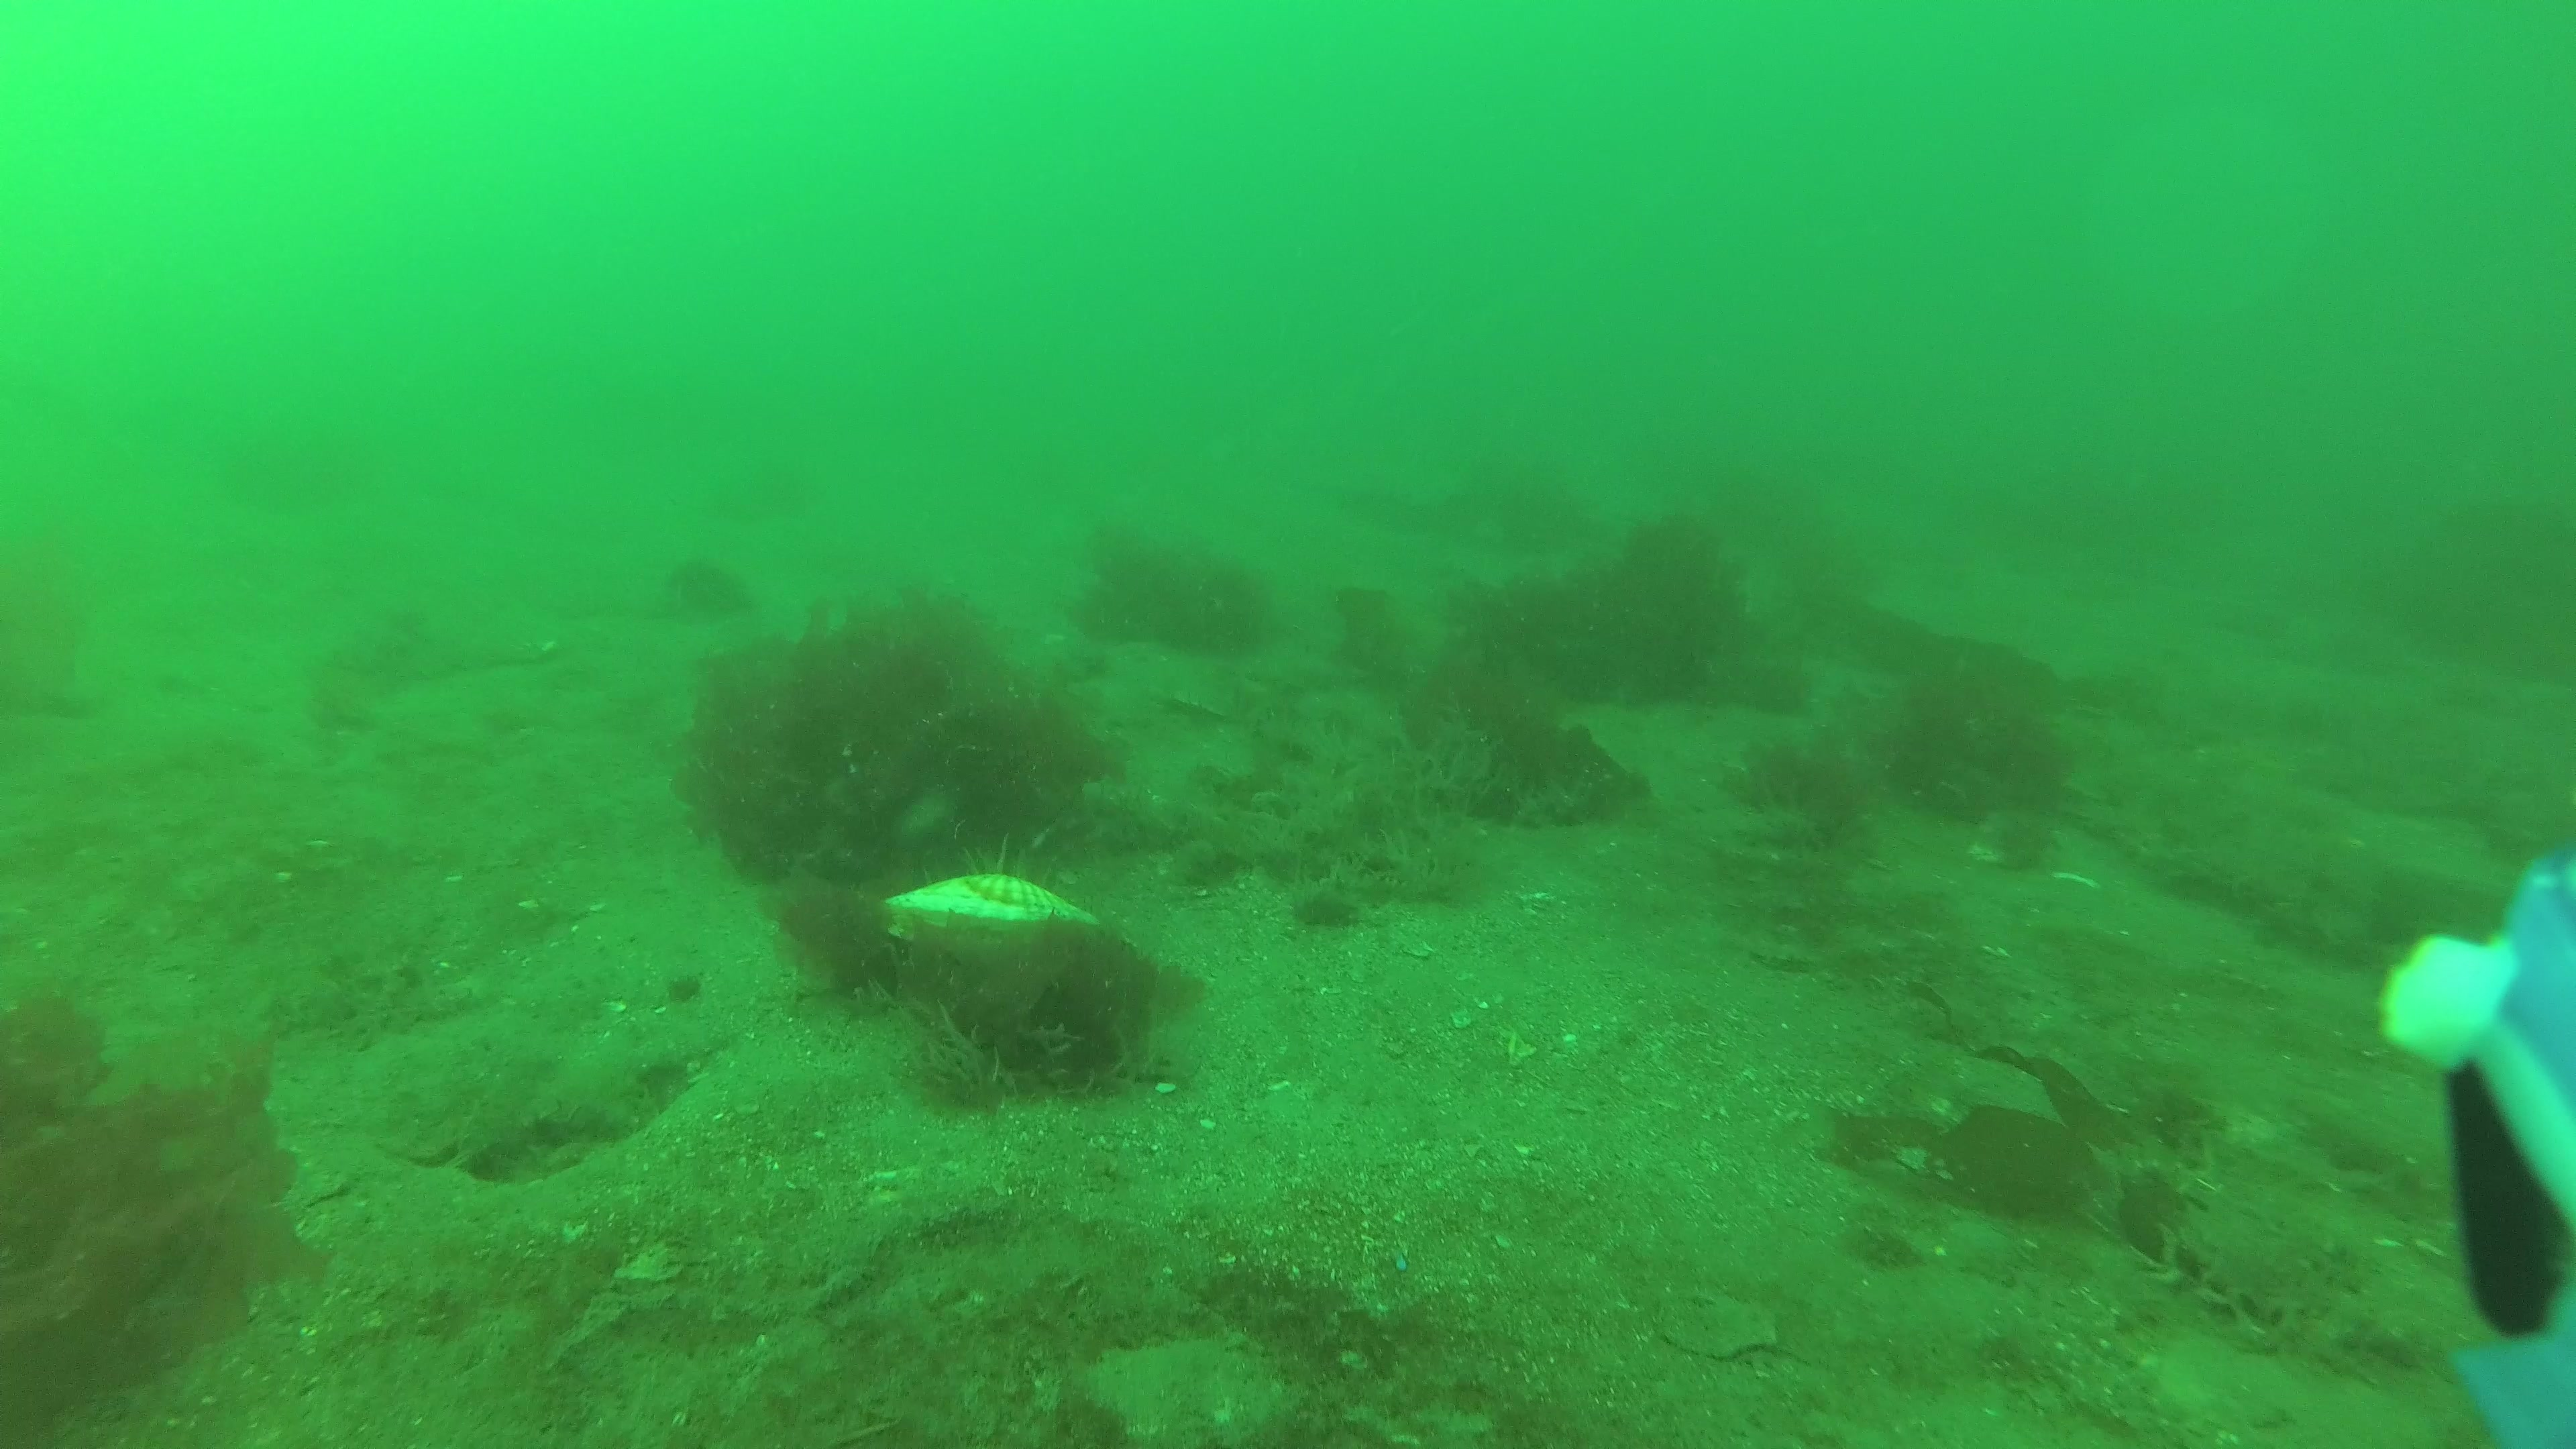scallop: (879, 876, 1099, 957), (1654, 1281, 1780, 1364)
